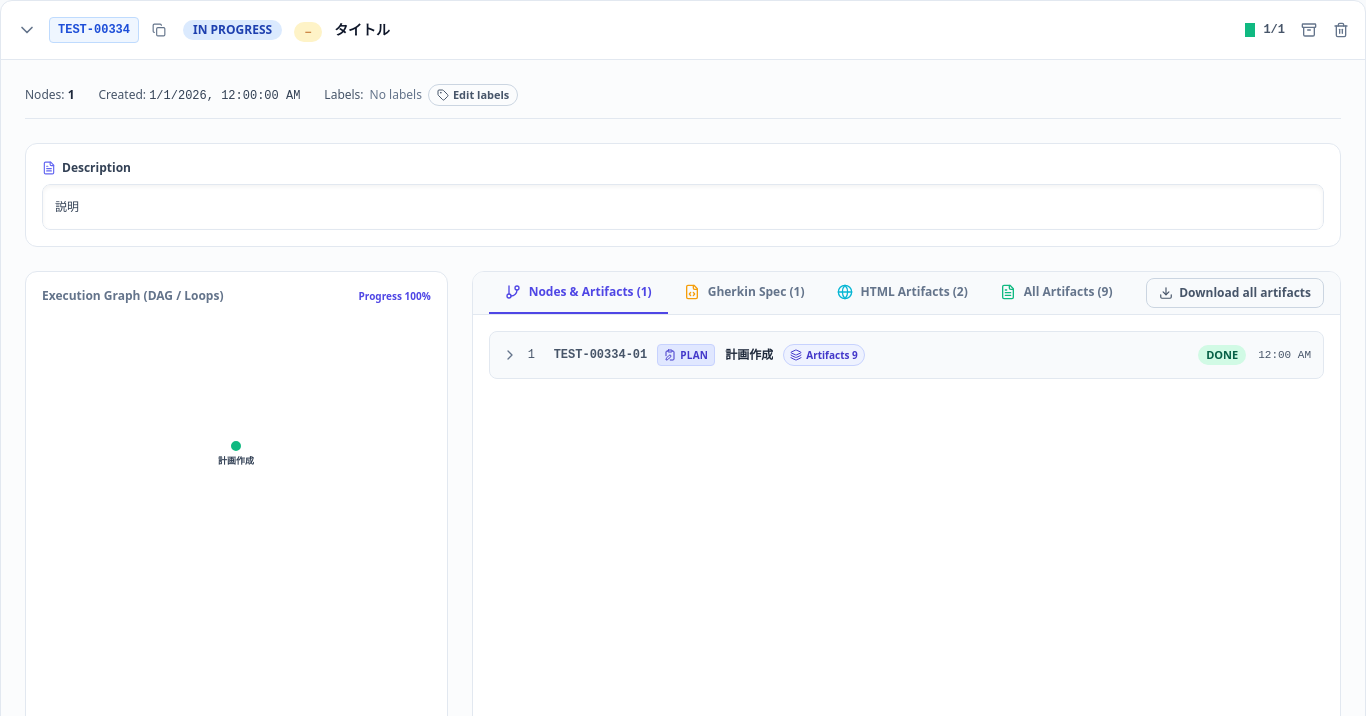
Test: DFLT-00334 the Download link may shrink to its row › keeps its accessible name in English
Click the text "計画作成" at (749, 354), box left=725, top=346, right=773, bottom=362
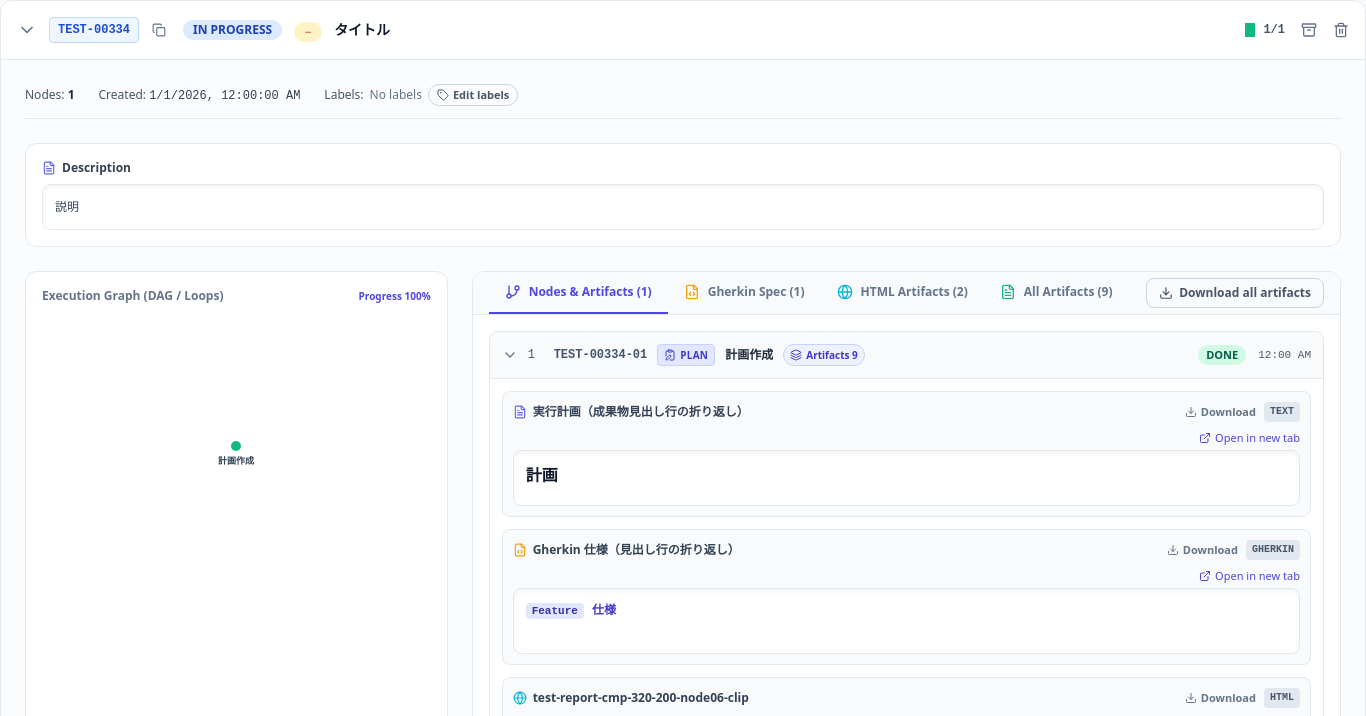
Expected: the number of links "Download" is 8
